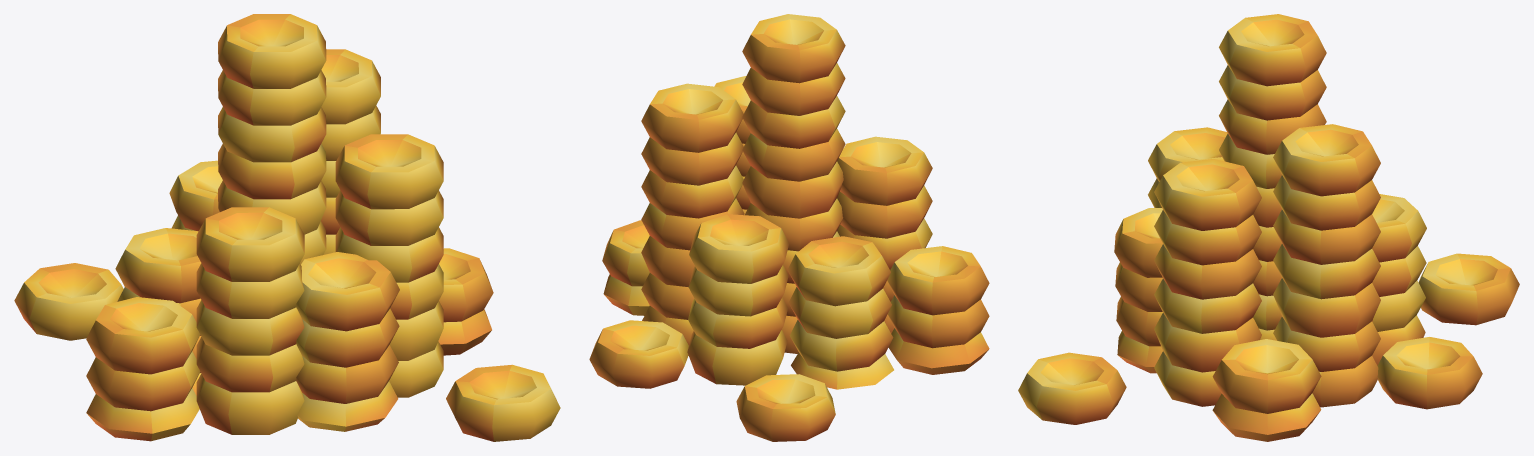
File: CoinStackLarge.glb
The picture shows the model from 3 angles, left to right: view 1: azimuth 30°, elevation 25°; view 2: azimuth 150°, elevation 25°; view 3: azimuth 270°, elevation 25°; orthographic projection. The views are drawn at different scales.
Visible parts, largest first — view 1: coin_stack_large; view 2: coin_stack_large; view 3: coin_stack_large.
Boxes of the visible parts, x1,y1,x2,y2 form: coin_stack_large: (14, 14, 560, 441); coin_stack_large: (589, 14, 989, 441); coin_stack_large: (1018, 14, 1519, 441).
Bounding box in the file's own units: 1.44 × 1.16 × 1.66.
Materials: 1 (1 with a texture image).
